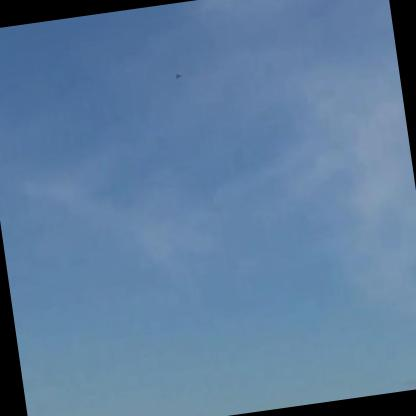plane: (173, 68, 185, 83)
